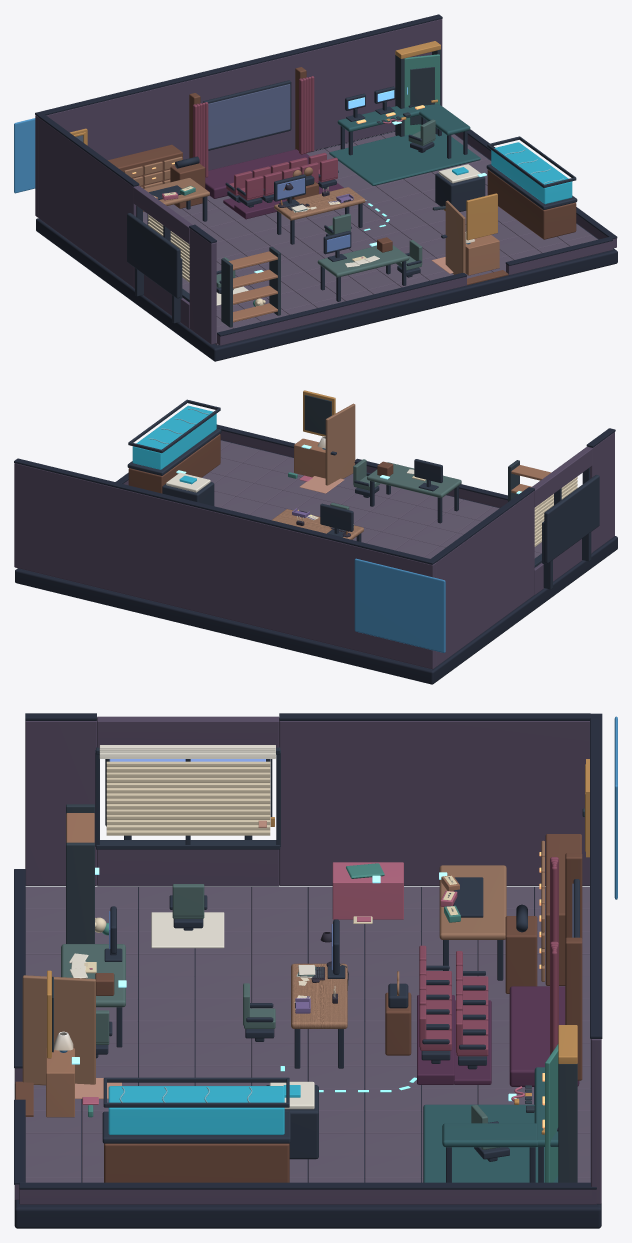
File: MyRoom.glb
The picture shows the model from 3 angles, top to bottom: view 1: azimuth 30°, elevation 25°; view 2: azimuth 150°, elevation 25°; view 3: azimuth 270°, elevation 25°; orthographic projection. The views are drawn at different scales.
Visible parts, largest first — view 1: 00_Architecture_Element.141, 00_Architecture_Element.145, 00_Architecture_Element, Detour_SignalRoom_Element, Theater_Projection, 00_Architecture_Element.143, Shadow_Window_Element, Aqua_Display_Element, Aqua_Display_Element.002, 00_Architecture_Element.154, 00_Architecture_Element.142, Exhibit_Dawn_Sky (+42 smaller); view 2: 00_Architecture_Element.141, 00_Architecture_Element.145, 00_Architecture_Element, Exhibit_Dawn_Sky, Shadow_Window_Element, Aqua_Display_Element.002, 00_Architecture_Element.142, 00_Architecture_Element.161, 00_Architecture_Element.143, Aqua_Display_Element, 00_Architecture_Element.148, Detective_Desk_Element (+34 smaller); view 3: 00_Architecture_Element.145, 00_Architecture_Element, 00_Architecture_Element.143, 00_Architecture_Element.158, Aqua_Display_Element.002, Aqua_Display_Element, 00_Architecture_Element.147, 00_Architecture_Element.161, Detour_SignalRoom_Element, 00_Architecture_Element.148, 00_Architecture_Element.159, 00_Architecture_Element.142 (+105 smaller).
Boxes of the visible parts, left/top/right/bottom form: 00_Architecture_Element.141: left=35, top=19, right=442, bottom=217; 00_Architecture_Element.145: left=38, top=118, right=138, bottom=287; 00_Architecture_Element: left=36, top=131, right=617, bottom=361; Detour_SignalRoom_Element: left=329, top=132, right=480, bottom=185; Theater_Projection: left=208, top=84, right=290, bottom=149; 00_Architecture_Element.143: left=189, top=228, right=216, bottom=344; Shadow_Window_Element: left=127, top=213, right=180, bottom=298; Aqua_Display_Element: left=487, top=169, right=576, bottom=239; Aqua_Display_Element.002: left=491, top=142, right=572, bottom=204; 00_Architecture_Element.154: left=217, top=276, right=466, bottom=345; 00_Architecture_Element.142: left=35, top=14, right=442, bottom=116; Exhibit_Dawn_Sky: left=14, top=118, right=35, bottom=193; 00_Architecture_Element.141: left=14, top=463, right=435, bottom=669; 00_Architecture_Element.145: left=436, top=491, right=534, bottom=666; 00_Architecture_Element: left=15, top=440, right=617, bottom=684; Exhibit_Dawn_Sky: left=354, top=558, right=445, bottom=652; Shadow_Window_Element: left=544, top=475, right=599, bottom=563; Aqua_Display_Element.002: left=132, top=405, right=216, bottom=469; 00_Architecture_Element.142: left=14, top=458, right=436, bottom=564; 00_Architecture_Element.161: left=325, top=403, right=355, bottom=485; 00_Architecture_Element.143: left=587, top=432, right=614, bottom=551; Aqua_Display_Element: left=128, top=434, right=220, bottom=493; 00_Architecture_Element.148: left=531, top=447, right=592, bottom=507; Detective_Desk_Element: left=367, top=462, right=461, bottom=497; 00_Architecture_Element.145: left=279, top=721, right=589, bottom=885; 00_Architecture_Element: left=14, top=886, right=601, bottom=1228; 00_Architecture_Element.143: left=25, top=721, right=96, bottom=885; 00_Architecture_Element.158: left=19, top=1189, right=596, bottom=1204; Aqua_Display_Element.002: left=108, top=1086, right=284, bottom=1134; Aqua_Display_Element: left=104, top=1143, right=289, bottom=1182; 00_Architecture_Element.147: left=97, top=849, right=279, bottom=886; 00_Architecture_Element.161: left=22, top=975, right=95, bottom=1085; Detour_SignalRoom_Element: left=423, top=1104, right=558, bottom=1182; 00_Architecture_Element.148: left=97, top=716, right=279, bottom=747; 00_Architecture_Element.159: left=19, top=1182, right=596, bottom=1189; 00_Architecture_Element.142: left=590, top=713, right=602, bottom=1038.
Size of the model in its own units: 13.5 by 3.63 by 10.25.
43 materials, 2 textured.
